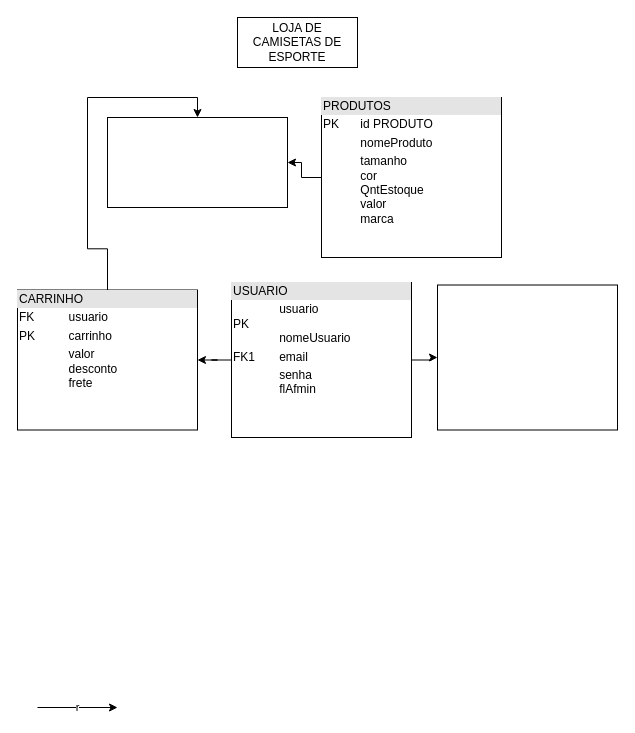
Image size: 635x733. Some labels were removed from this diagram. The shapes that lost their labels are listed below. From the top down, each one's centre as x and y in pixels, then its label:
pixel 197 162: ITEM PFK produto PFK carrinho item valor
pixel 527 357: ENDEREÇO PK FK endereço usuario cep numresidencial complemento
